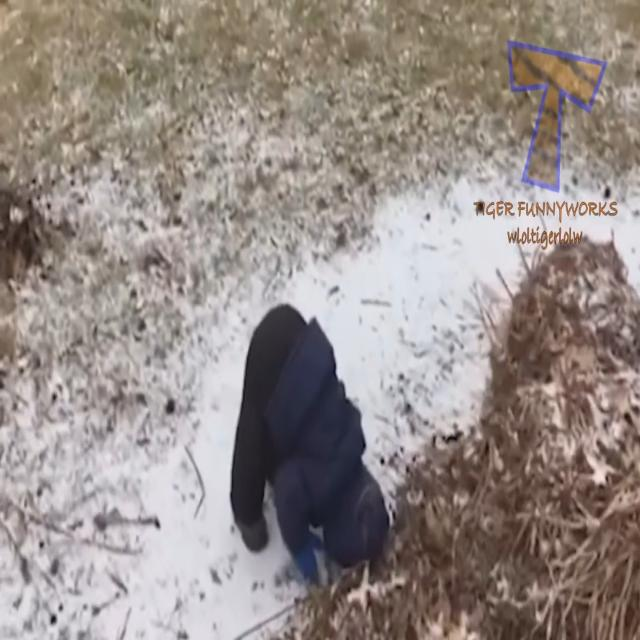dangerous: (232, 306, 378, 576)
